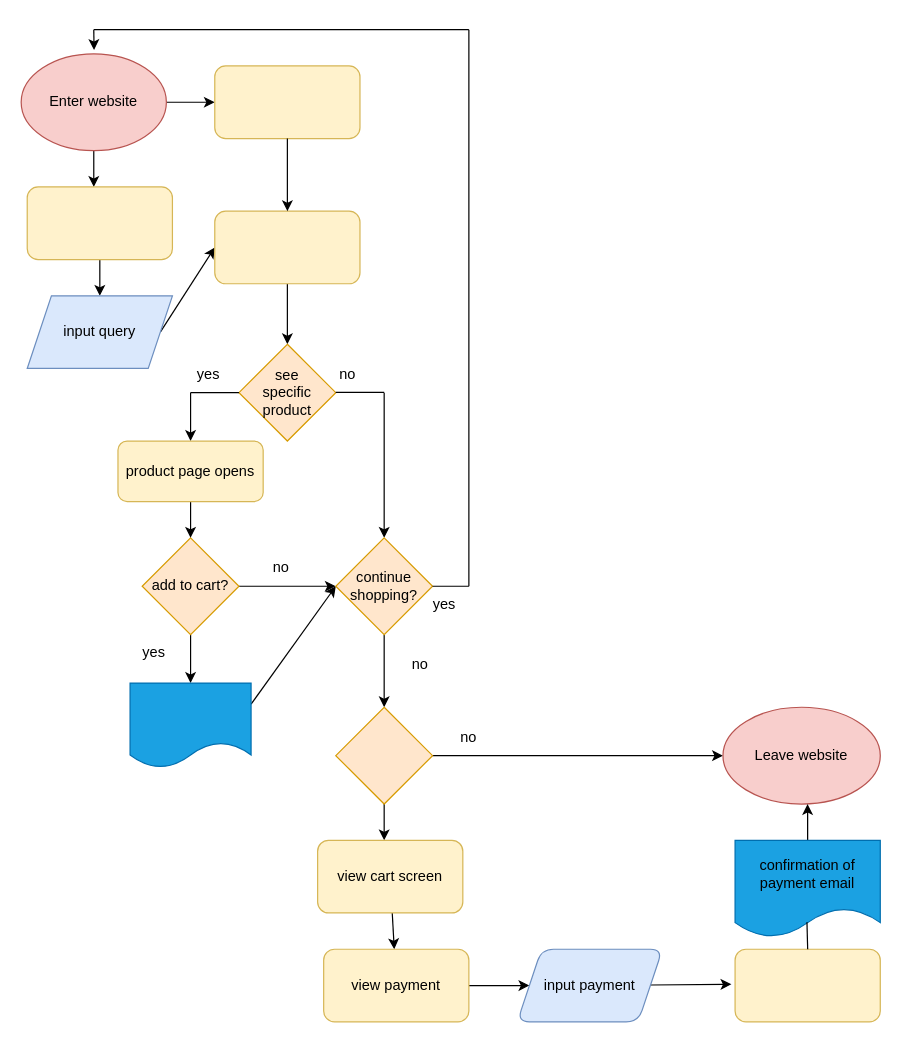
Image size: 901x1043. Some labels were removed from this diagram. The box of each missing label's shape, as (x1, y1, x2, y2) in pixels:
checkout?: (335, 706, 433, 804)
confirmation screen: (734, 948, 880, 1022)
confirmation that item is in cart: (129, 682, 251, 768)
explore homepage: (214, 65, 360, 139)
search for product: (26, 186, 172, 260)
survey product options: (214, 210, 360, 284)
